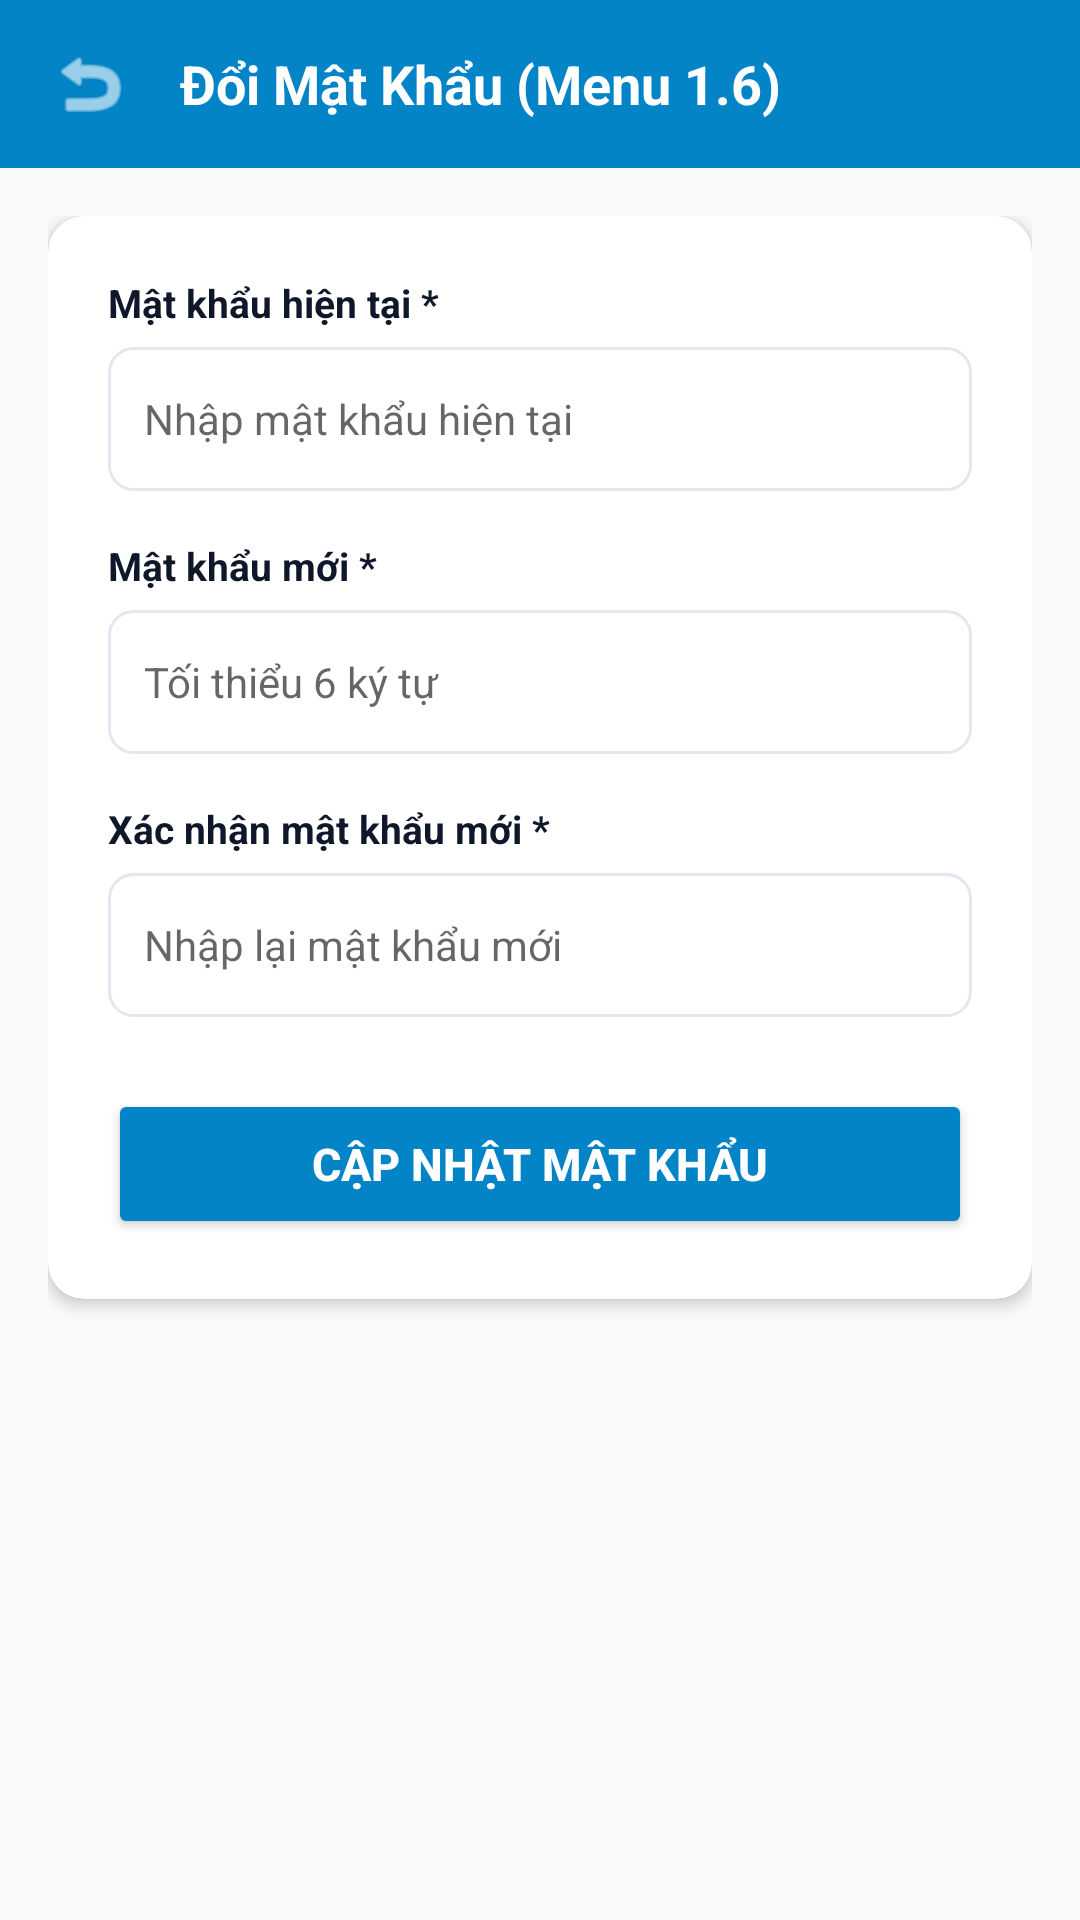

Icon click points for this 1080px x 1920px phone screenshot, format [x,y]:
Quay lại: [91,84]
